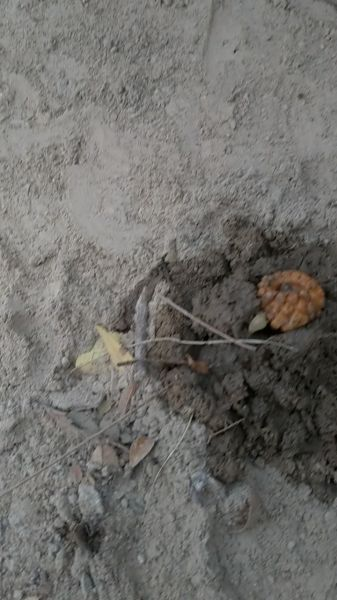eggs: (250, 268, 329, 337)
